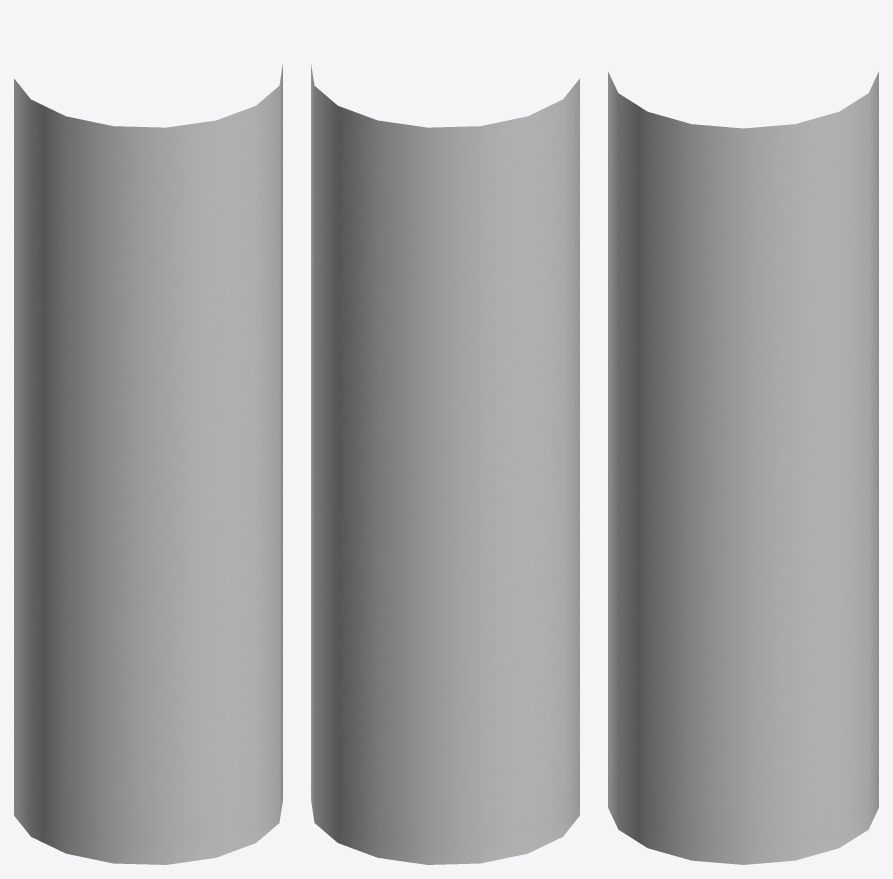
File: Pillar1x3Rnd.gltf
3 views of the same model, side by side, from view 1: azimuth 30°, elevation 25°; view 2: azimuth 150°, elevation 25°; view 3: azimuth 270°, elevation 25° (orthographic).
Parts seen in each view (by area): view 1: Pillar1x3RndShape; view 2: Pillar1x3RndShape; view 3: Pillar1x3RndShape.
Boxes of the visible parts, x1,y1,x2,y2 form: Pillar1x3RndShape: (14,64,282,864); Pillar1x3RndShape: (311,64,579,864); Pillar1x3RndShape: (608,71,878,864).
Size of the model in its own units: 1 by 3 by 1.
1 material, 1 textured.
